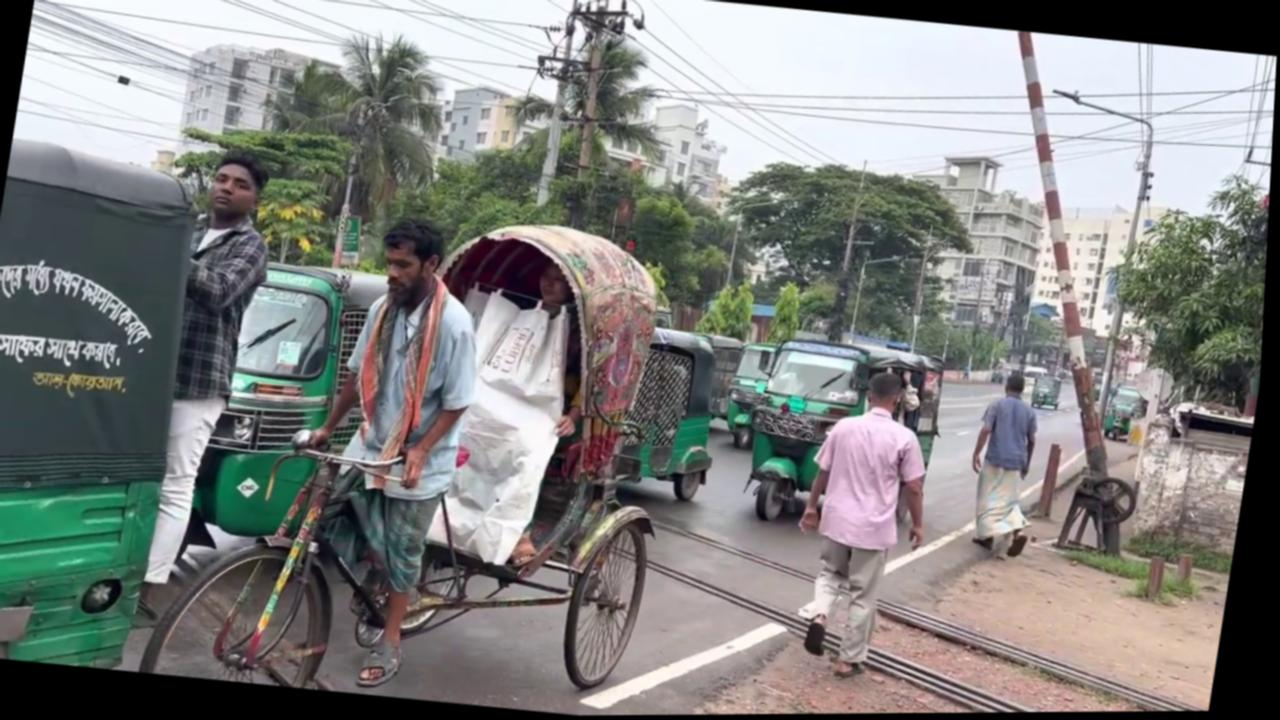Fence: (261, 208, 505, 694), (137, 145, 289, 632), (782, 366, 952, 685), (963, 371, 1058, 564)
Garbage: (942, 31, 1201, 558)
Muddy road: (144, 186, 708, 719)
Railroad-crossing: (708, 149, 989, 357), (237, 17, 460, 276), (487, 18, 685, 240), (161, 115, 359, 269)
Rickshaw: (0, 135, 218, 671), (740, 332, 956, 538)
